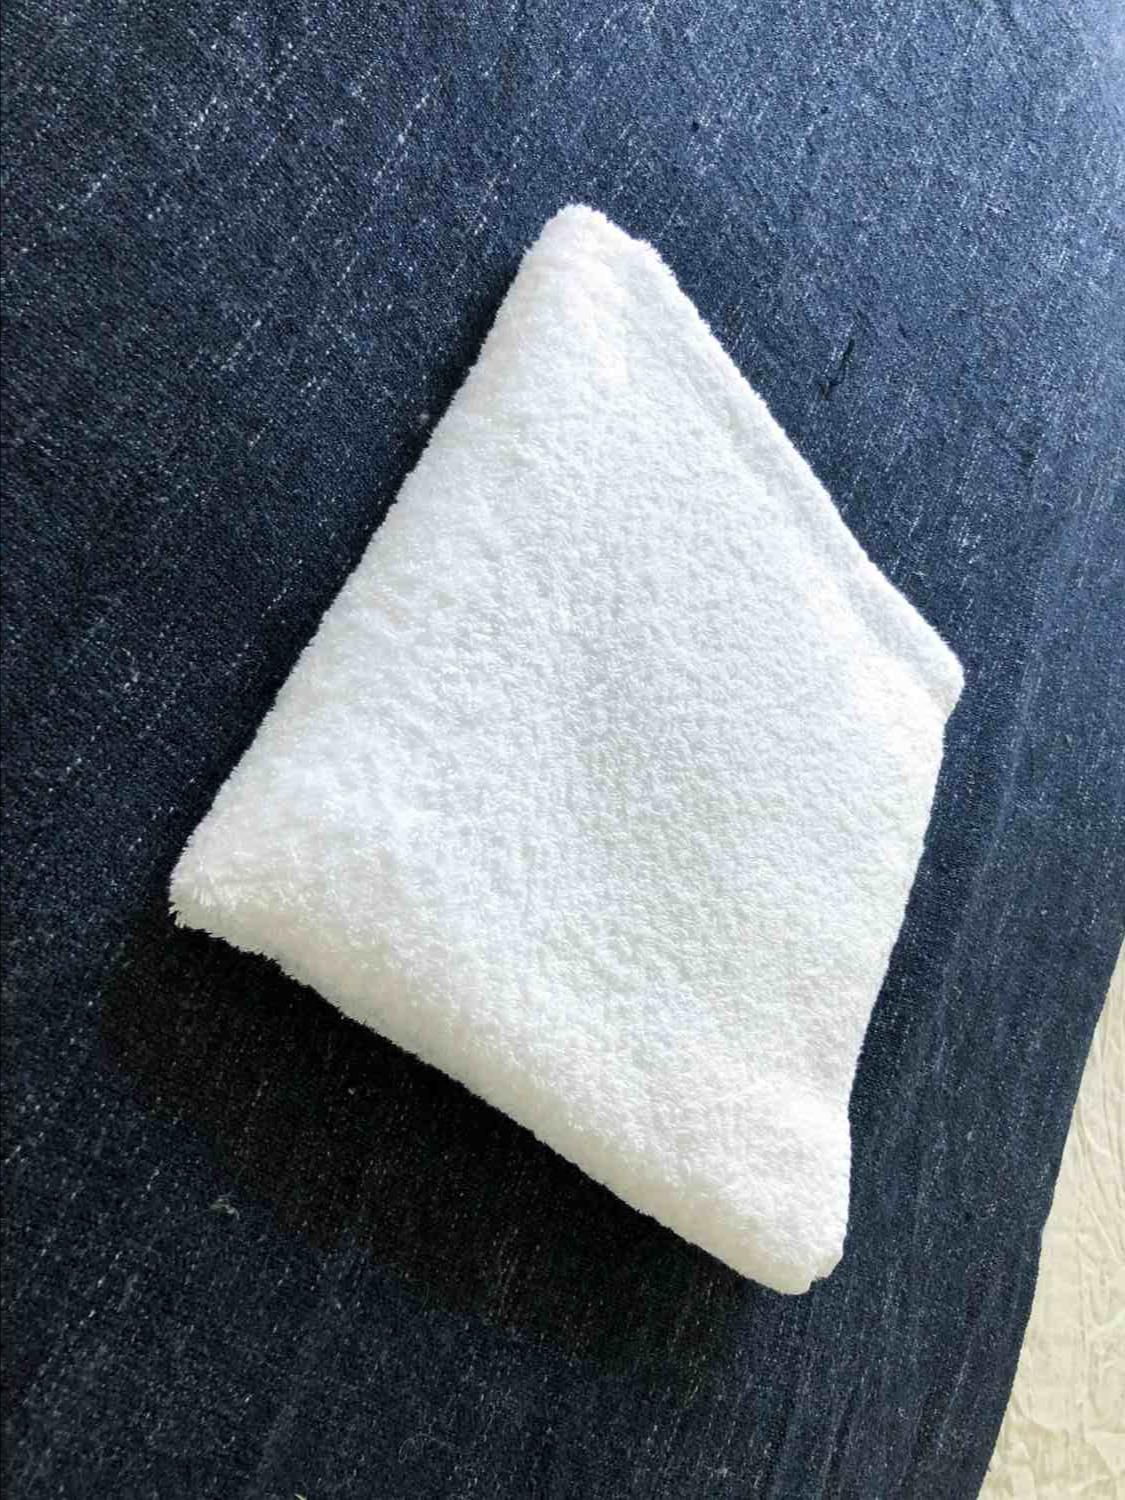towel: (123, 103, 994, 1359)
